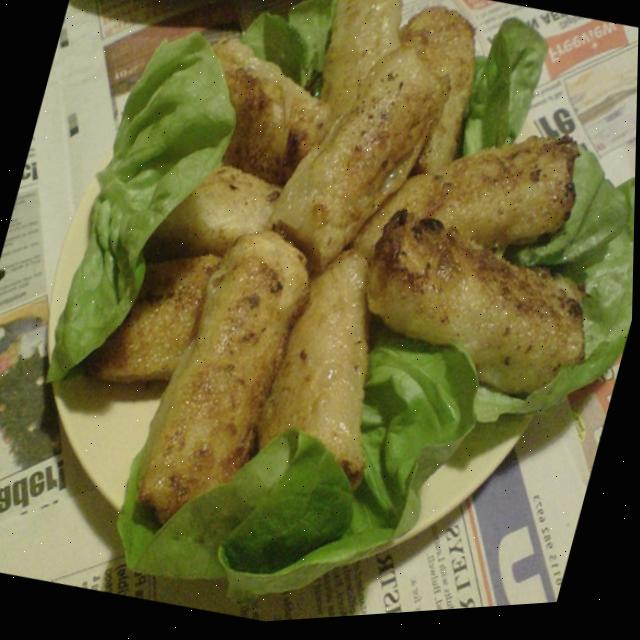炸货点心: (10, 0, 640, 639)
